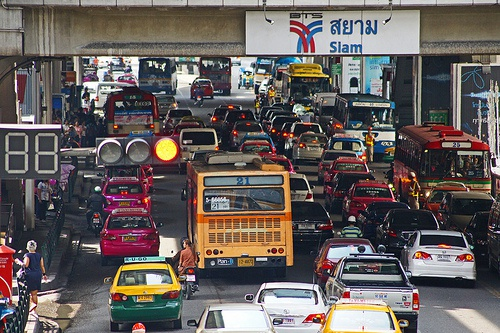non-vehicle: (180, 266, 199, 300), (88, 209, 102, 234), (193, 88, 203, 107)
